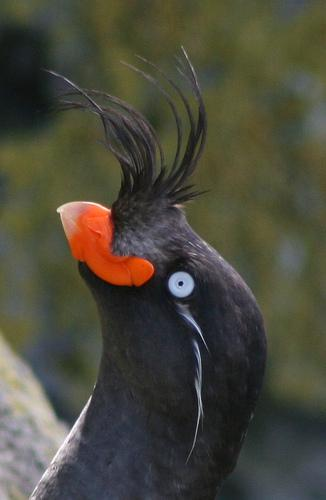005.Crested_Auklet: (31, 45, 272, 500)
